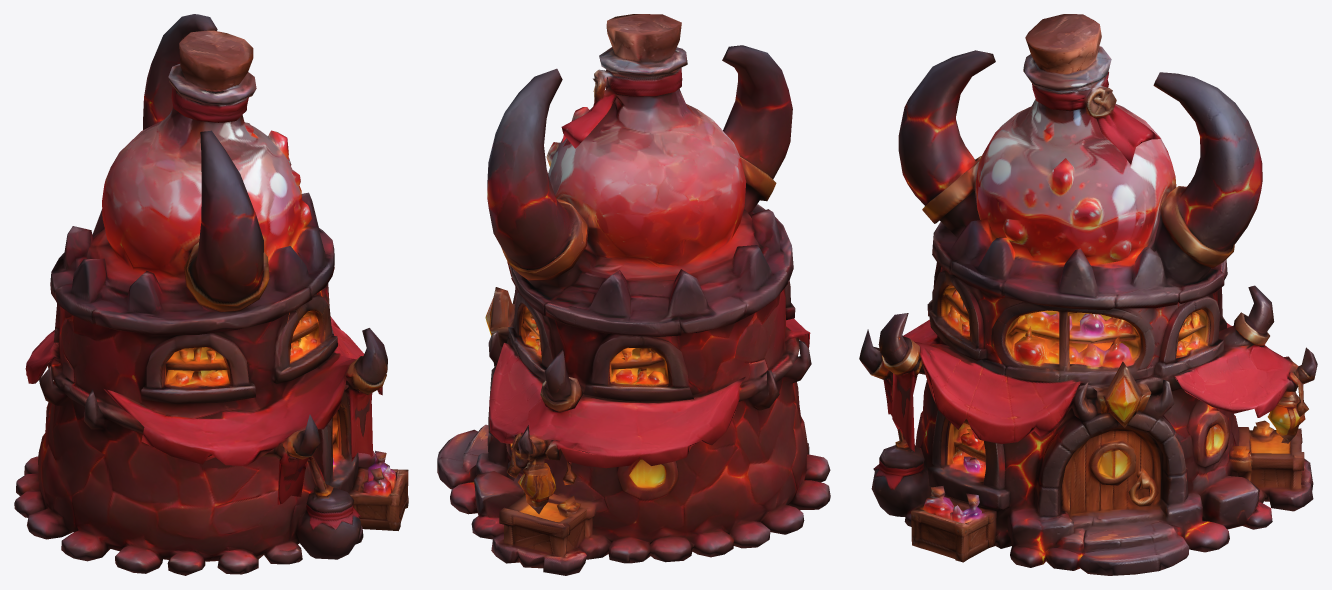
Rendered from Town_Horns_Potion_raw.glb.
3 views of the same model, side by side, from view 1: azimuth 30°, elevation 25°; view 2: azimuth 150°, elevation 25°; view 3: azimuth 270°, elevation 25° (orthographic).
Visible parts, largest first — view 1: tripo_node_5f47e853-b23c-4242-af17-63fe3054f210; view 2: tripo_node_5f47e853-b23c-4242-af17-63fe3054f210; view 3: tripo_node_5f47e853-b23c-4242-af17-63fe3054f210.
Part boxes in pixels (bbox=[...]): tripo_node_5f47e853-b23c-4242-af17-63fe3054f210: bbox=[14, 14, 408, 575]; tripo_node_5f47e853-b23c-4242-af17-63fe3054f210: bbox=[437, 14, 830, 575]; tripo_node_5f47e853-b23c-4242-af17-63fe3054f210: bbox=[859, 14, 1317, 575].
Bounding box in the file's own units: 0.7778 × 1 × 0.8945.
Materials: 1 (1 with a texture image).
